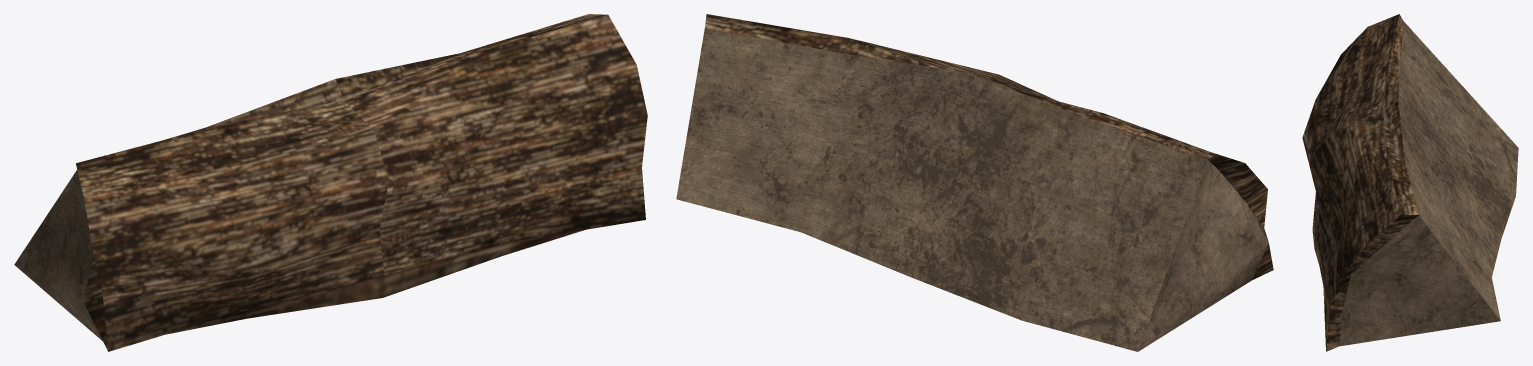
Rendered from Pine_02.fbx.
The picture shows the model from 3 angles, left to right: view 1: azimuth 30°, elevation 25°; view 2: azimuth 150°, elevation 25°; view 3: azimuth 270°, elevation 25°; orthographic projection. The views are drawn at different scales.
Parts seen in each view (by area): view 1: Cube.016; view 2: Cube.016; view 3: Cube.016.
Boxes of the visible parts, bbox=[...] form: Cube.016: bbox=[14, 14, 647, 351]; Cube.016: bbox=[676, 14, 1273, 351]; Cube.016: bbox=[1302, 14, 1518, 351].
Size of the model in its own units: 29.22 by 8.96 by 11.74.
